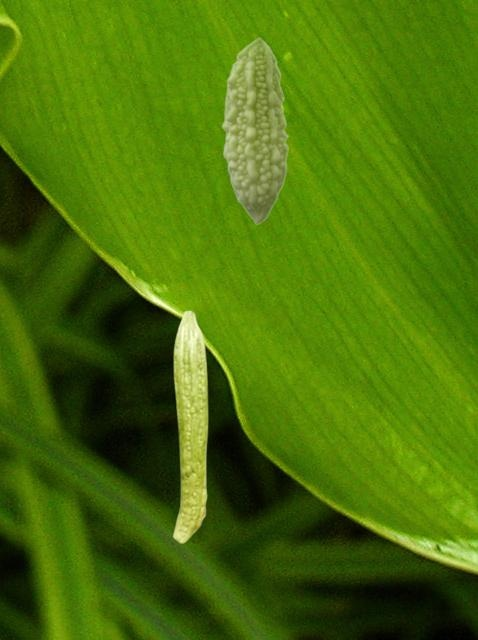ampalaya: (221, 37, 289, 225), (170, 309, 210, 544)
